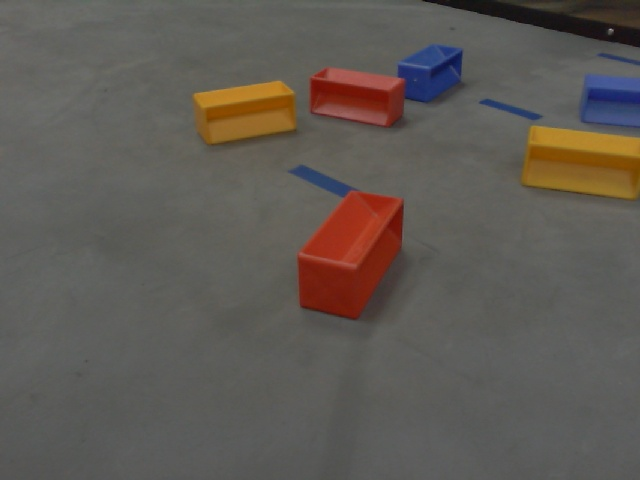BlueSample: (396, 40, 465, 106), (570, 71, 640, 127)
RedSample: (294, 186, 408, 322), (306, 64, 407, 133)
YellowSample: (522, 123, 640, 205), (190, 79, 298, 146)
